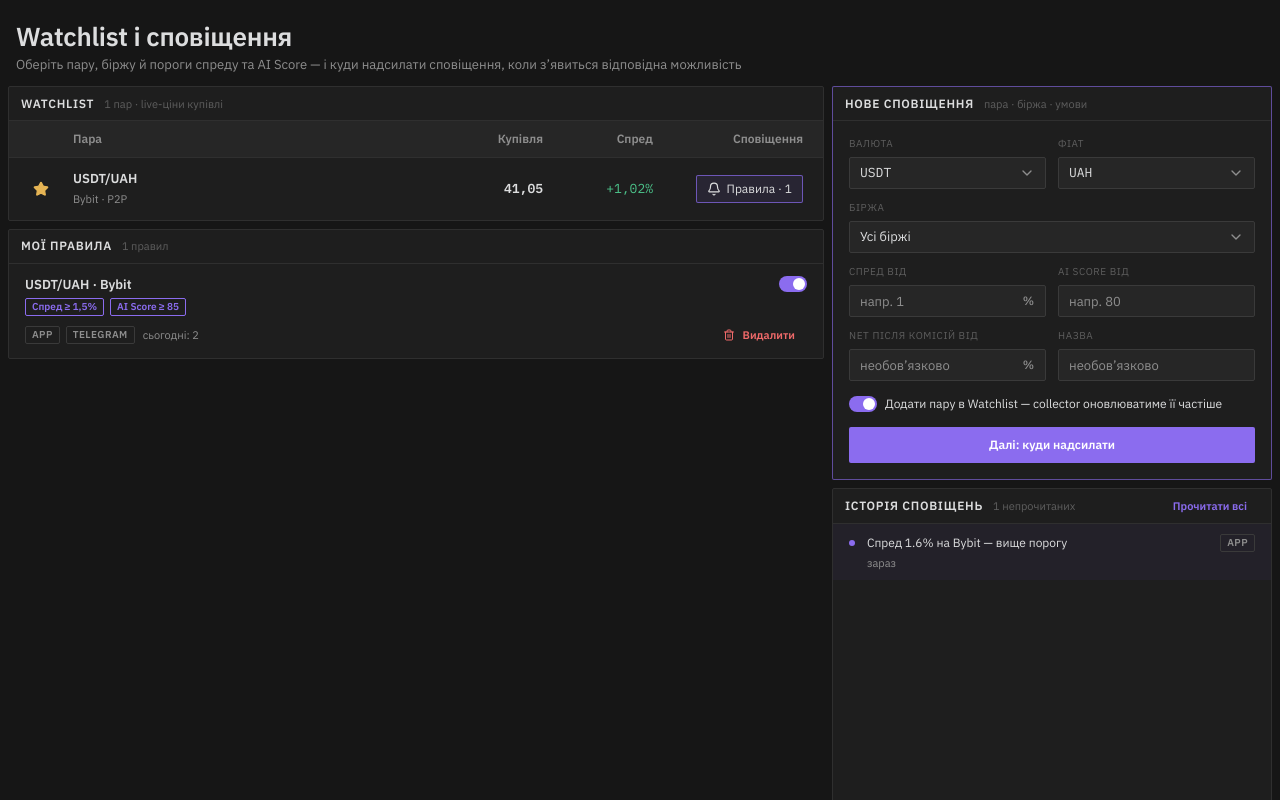
Scenario: сторінка «Watchlist і сповіщення» › помилка бекенду (Telegram не підключено) видна в діалозі
Type "2" into the field labelled "Спред від". click: (948, 301)
box: [849,285,1046,317]
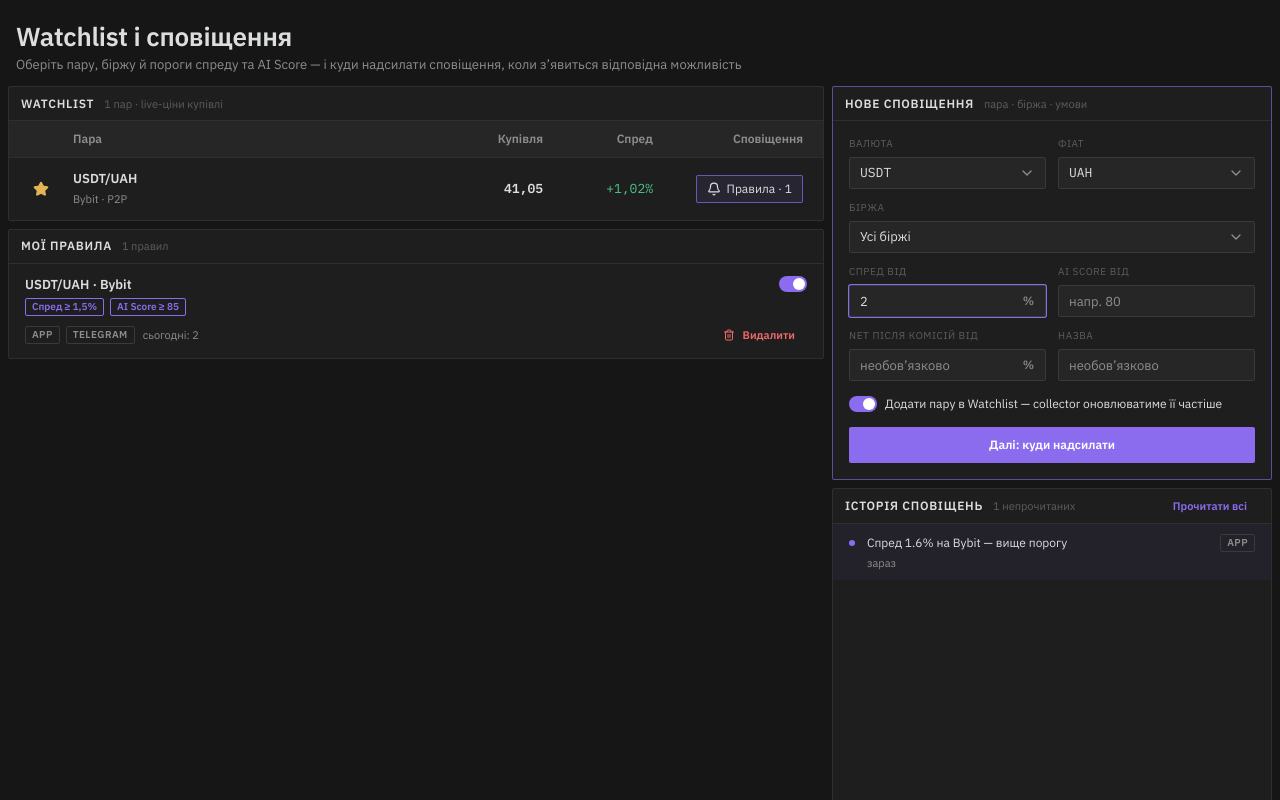
Click the button "Далі: куди надсилати". click: (1052, 445)
box: [849,427,1255,463]
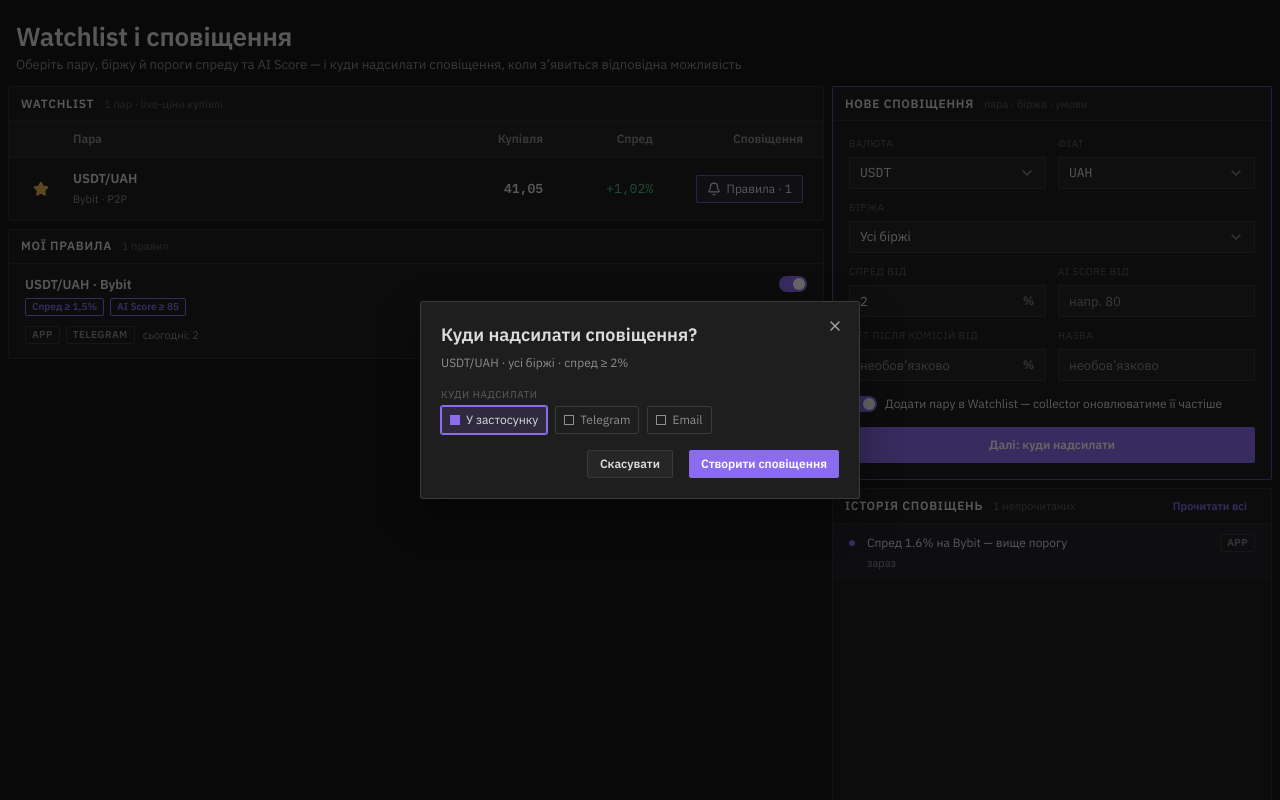
Click the button "Telegram". click: (597, 420)
box: [555,406,639,434]
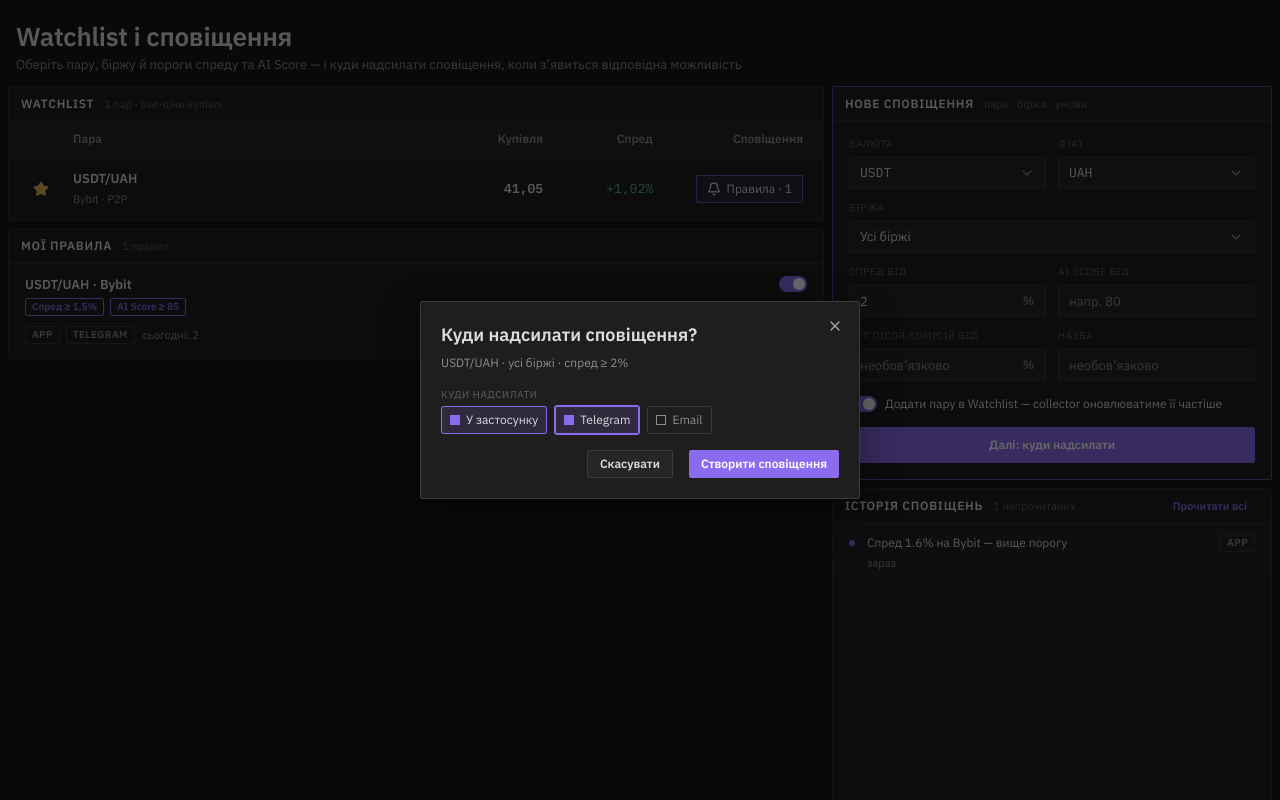
Click the button "Створити сповіщення". click: (764, 464)
box: [689,450,839,478]
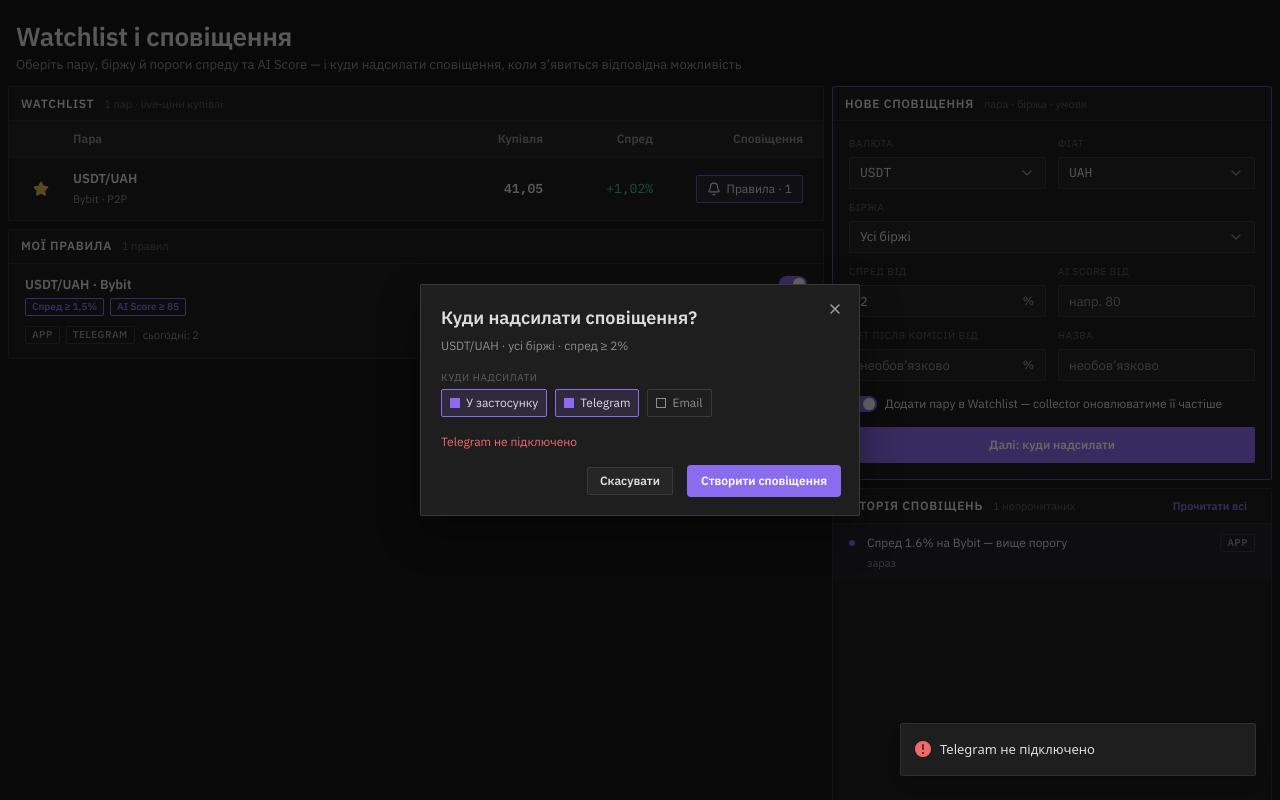
Expected: the text "Telegram не підключено" is shown, [441,434,577,449]
